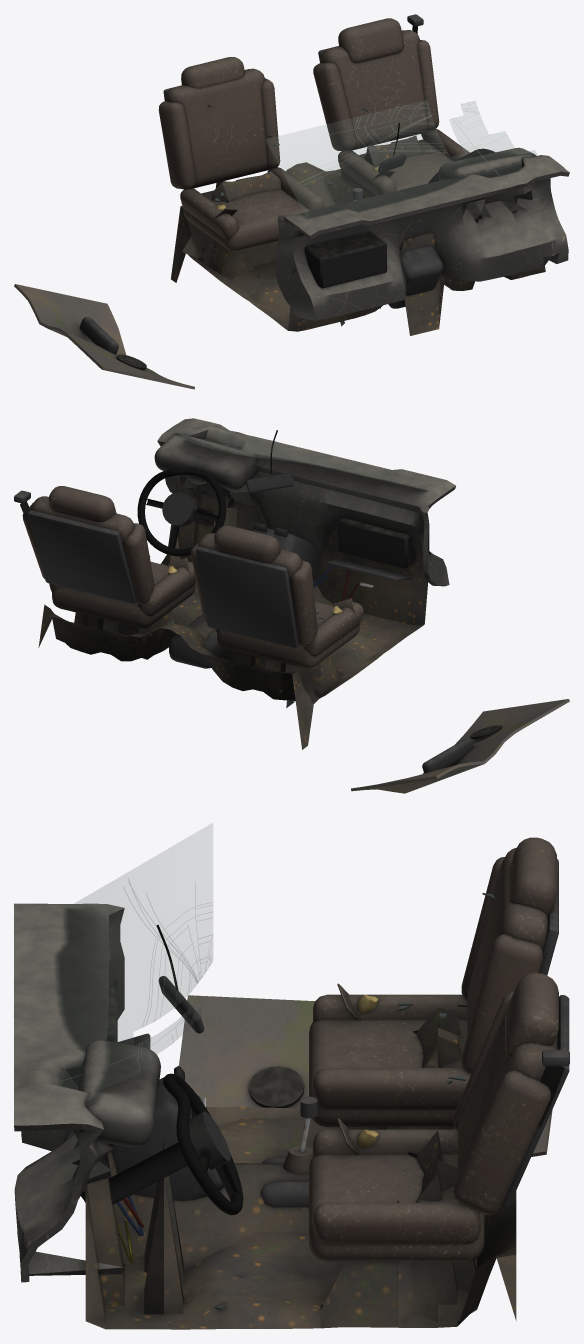
3 renders of one model, top to bottom at view 1: azimuth 30°, elevation 25°; view 2: azimuth 150°, elevation 25°; view 3: azimuth 270°, elevation 25°, orthographic. The views are drawn at different scales.
Parts seen in each view (by area): view 1: wrack_innen, scheibe; view 2: wrack_innen, scheibe; view 3: wrack_innen, scheibe.
Part boxes in pixels (bbox=[...]): wrack_innen: bbox=[14, 14, 569, 389]; scheibe: bbox=[266, 100, 537, 218]; wrack_innen: bbox=[14, 418, 569, 793]; scheibe: bbox=[172, 426, 424, 489]; wrack_innen: bbox=[14, 837, 569, 1329]; scheibe: bbox=[57, 823, 213, 1106].
Size of the model in its own units: 2.15 by 1.19 by 1.4.
2 materials, 2 textured.
